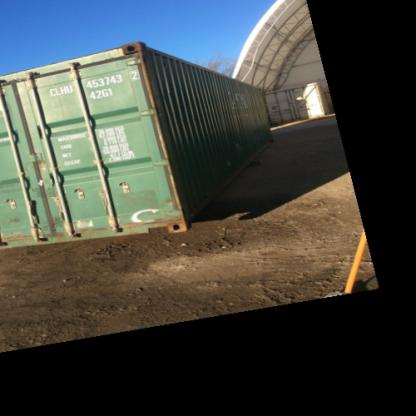Damage: (115, 182, 159, 226), (37, 216, 63, 234), (7, 214, 26, 235)
